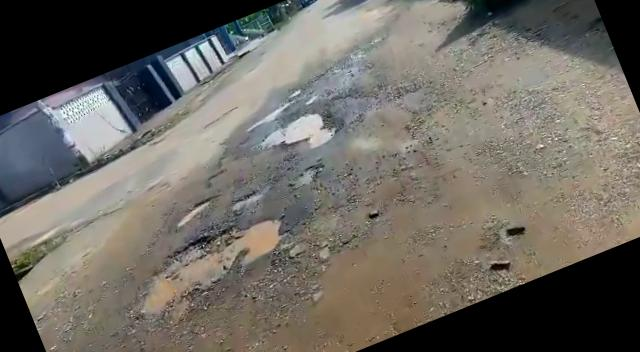pothole: (112, 208, 297, 326), (248, 102, 339, 166), (168, 194, 220, 231), (228, 188, 266, 214)
